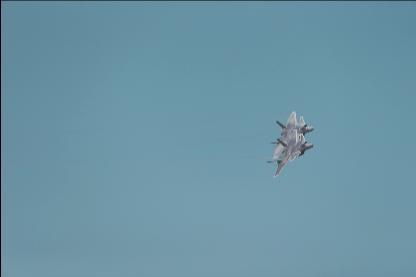F4: (266, 110, 314, 158), (266, 128, 314, 176)
